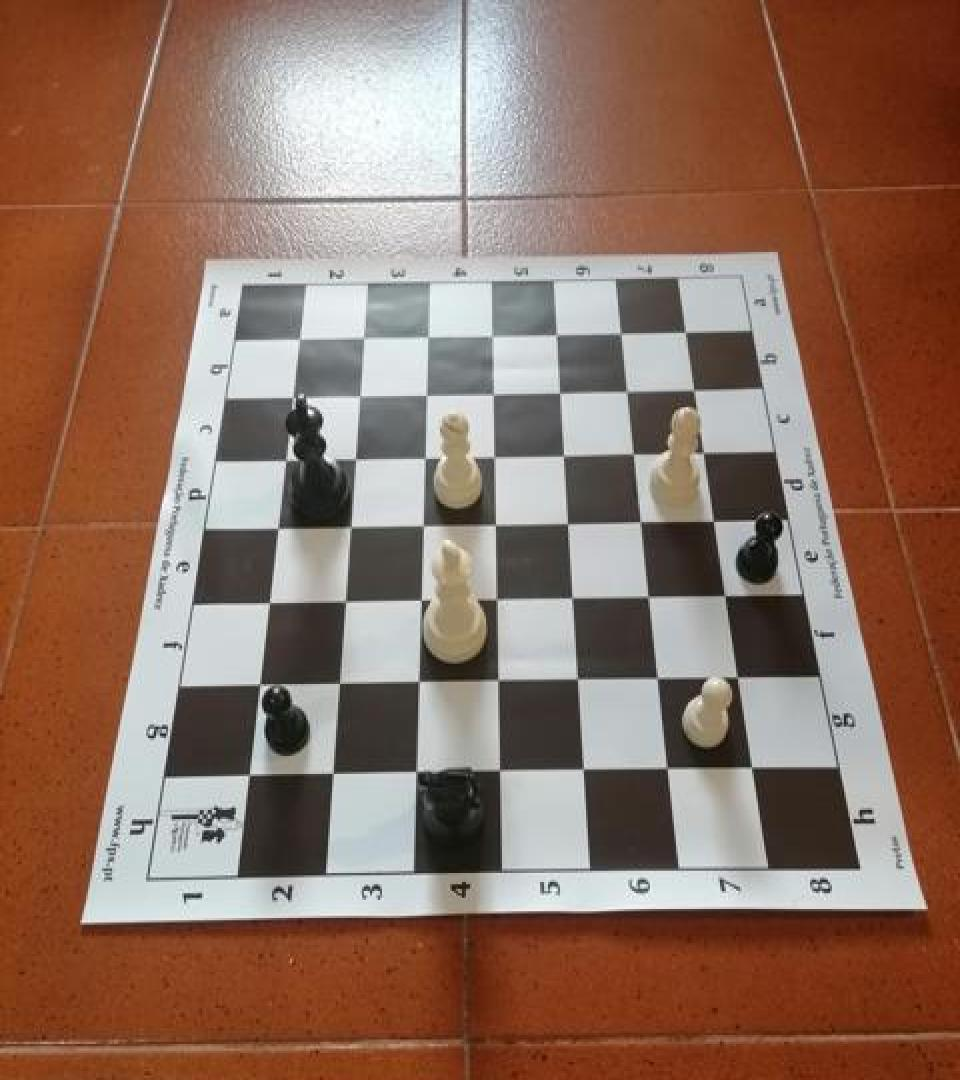xcorner: (673, 314, 703, 348), (609, 315, 639, 349), (544, 316, 574, 350), (480, 317, 510, 351), (415, 318, 445, 352), (286, 320, 316, 354), (682, 371, 712, 405), (615, 372, 645, 406), (481, 374, 511, 408), (414, 376, 444, 410), (347, 377, 377, 411), (280, 378, 310, 412), (692, 434, 722, 468), (622, 435, 652, 469), (553, 436, 583, 470), (483, 438, 513, 472), (342, 440, 372, 474), (272, 442, 302, 476), (703, 502, 733, 536), (630, 504, 660, 538), (557, 505, 587, 539), (484, 506, 514, 540), (411, 507, 441, 541), (338, 508, 368, 542), (264, 510, 294, 544), (715, 577, 745, 611), (639, 578, 669, 612), (562, 579, 592, 613), (486, 582, 516, 616), (409, 582, 439, 616), (332, 584, 362, 618), (256, 586, 286, 620), (728, 659, 758, 693), (648, 660, 678, 694), (568, 662, 598, 696), (407, 665, 437, 699), (327, 667, 357, 701), (246, 668, 276, 702), (743, 749, 773, 783), (658, 750, 688, 784), (574, 752, 604, 786), (489, 755, 519, 789), (405, 756, 435, 790), (320, 758, 350, 792), (236, 759, 266, 793), (351, 320, 381, 353), (548, 374, 578, 407), (413, 439, 443, 472), (488, 664, 518, 697)
